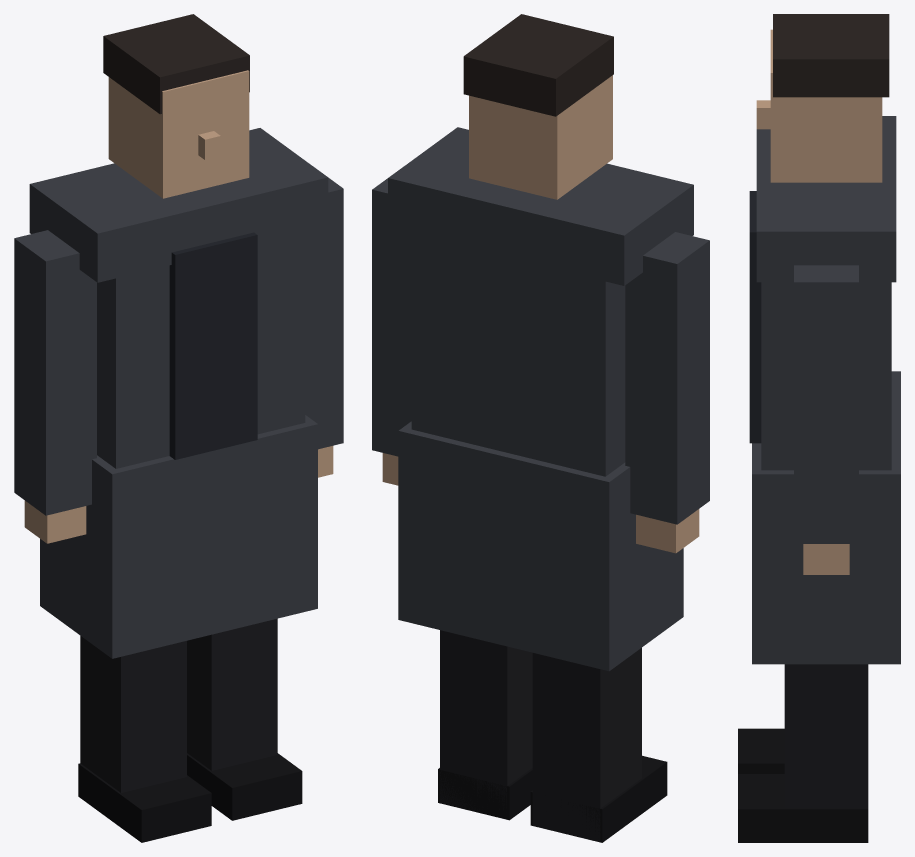
The model's file is CHR_Soldier01.glb.
3 renders of one model, left to right at view 1: azimuth 30°, elevation 25°; view 2: azimuth 150°, elevation 25°; view 3: azimuth 270°, elevation 25°, orthographic. The views are drawn at different scales.
Visible parts, largest first — view 1: CHR_Soldier01_Coat_Geo, CHR_Soldier01_Shoulders_Geo, CHR_Soldier01_Chest_Geo, CHR_Soldier01_ArmL_Geo, CHR_Soldier01_Front_Geo, CHR_Soldier01_LegL_Geo, CHR_Soldier01_Skull_Geo, CHR_Soldier01_LegR_Geo, CHR_Soldier01_ArmR_Geo, CHR_Soldier01_Hair_Geo, CHR_Soldier01_ShoeL_Geo, CHR_Soldier01_ShoeR_Geo (+1 smaller); view 2: CHR_Soldier01_Coat_Geo, CHR_Soldier01_Chest_Geo, CHR_Soldier01_Shoulders_Geo, CHR_Soldier01_ArmL_Geo, CHR_Soldier01_LegL_Geo, CHR_Soldier01_LegR_Geo, CHR_Soldier01_Skull_Geo, CHR_Soldier01_Hair_Geo, CHR_Soldier01_ArmR_Geo, CHR_Soldier01_ShoeR_Geo, CHR_Soldier01_ShoeL_Geo, CHR_Soldier01_HandL_Geo; view 3: CHR_Soldier01_Coat_Geo, CHR_Soldier01_ArmR_Geo, CHR_Soldier01_Shoulders_Geo, CHR_Soldier01_Chest_Geo, CHR_Soldier01_LegR_Geo, CHR_Soldier01_Skull_Geo, CHR_Soldier01_Hair_Geo, CHR_Soldier01_ShoeR_Geo, CHR_Soldier01_Front_Geo, CHR_Soldier01_ShoeL_Geo, CHR_Soldier01_HandR_Geo, CHR_Soldier01_Nose_Geo.
Part boxes in pixels (bbox=[...]): CHR_Soldier01_Coat_Geo: bbox=[40, 415, 317, 658]; CHR_Soldier01_Shoulders_Geo: bbox=[29, 128, 328, 282]; CHR_Soldier01_Chest_Geo: bbox=[97, 232, 305, 468]; CHR_Soldier01_ArmL_Geo: bbox=[14, 230, 96, 515]; CHR_Soldier01_Front_Geo: bbox=[169, 232, 257, 459]; CHR_Soldier01_LegL_Geo: bbox=[80, 636, 186, 792]; CHR_Soldier01_Skull_Geo: bbox=[108, 70, 249, 198]; CHR_Soldier01_LegR_Geo: bbox=[187, 618, 277, 770]; CHR_Soldier01_ArmR_Geo: bbox=[305, 177, 343, 449]; CHR_Soldier01_Hair_Geo: bbox=[103, 14, 249, 114]; CHR_Soldier01_ShoeL_Geo: bbox=[78, 763, 211, 842]; CHR_Soldier01_ShoeR_Geo: bbox=[187, 753, 302, 820]; CHR_Soldier01_Coat_Geo: bbox=[398, 421, 683, 671]; CHR_Soldier01_Chest_Geo: bbox=[411, 234, 625, 476]; CHR_Soldier01_Shoulders_Geo: bbox=[388, 127, 693, 285]; CHR_Soldier01_ArmL_Geo: bbox=[625, 232, 709, 524]; CHR_Soldier01_LegL_Geo: bbox=[532, 648, 641, 842]; CHR_Soldier01_LegR_Geo: bbox=[440, 630, 532, 818]; CHR_Soldier01_Skull_Geo: bbox=[469, 75, 612, 199]; CHR_Soldier01_Hair_Geo: bbox=[463, 14, 613, 116]; CHR_Soldier01_ArmR_Geo: bbox=[372, 178, 411, 456]; CHR_Soldier01_ShoeR_Geo: bbox=[438, 768, 532, 820]; CHR_Soldier01_ShoeL_Geo: bbox=[530, 755, 667, 842]; CHR_Soldier01_HandL_Geo: bbox=[636, 509, 699, 553]; CHR_Soldier01_Coat_Geo: bbox=[752, 371, 900, 664]; CHR_Soldier01_ArmR_Geo: bbox=[794, 265, 858, 543]; CHR_Soldier01_Shoulders_Geo: bbox=[756, 116, 896, 282]; CHR_Soldier01_Chest_Geo: bbox=[761, 282, 891, 470]; CHR_Soldier01_LegR_Geo: bbox=[784, 664, 868, 808]; CHR_Soldier01_Skull_Geo: bbox=[770, 29, 882, 182]; CHR_Soldier01_Hair_Geo: bbox=[773, 14, 889, 97]; CHR_Soldier01_ShoeR_Geo: bbox=[738, 774, 868, 842]; CHR_Soldier01_Front_Geo: bbox=[749, 191, 761, 443]; CHR_Soldier01_ShoeL_Geo: bbox=[738, 728, 784, 773]; CHR_Soldier01_HandR_Geo: bbox=[803, 544, 849, 574]; CHR_Soldier01_Nose_Geo: bbox=[756, 100, 770, 129].
Bounding box in the file's own units: 0.7684 × 1.84 × 0.3539.
